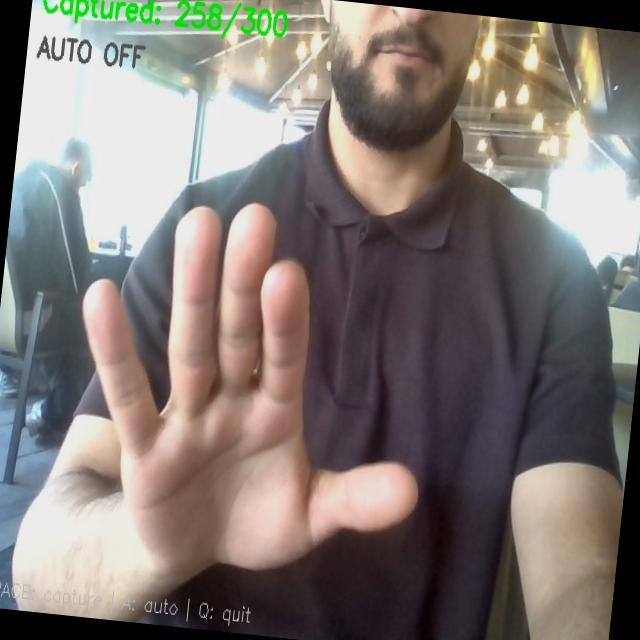Hand: (84, 205, 417, 580)
